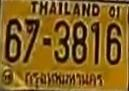1: (90, 21, 101, 64)
3: (53, 20, 69, 62)
6: (4, 18, 21, 61), (106, 22, 120, 64)
7: (23, 18, 39, 62)
8: (71, 21, 86, 63)
BKK: (21, 67, 106, 89)
